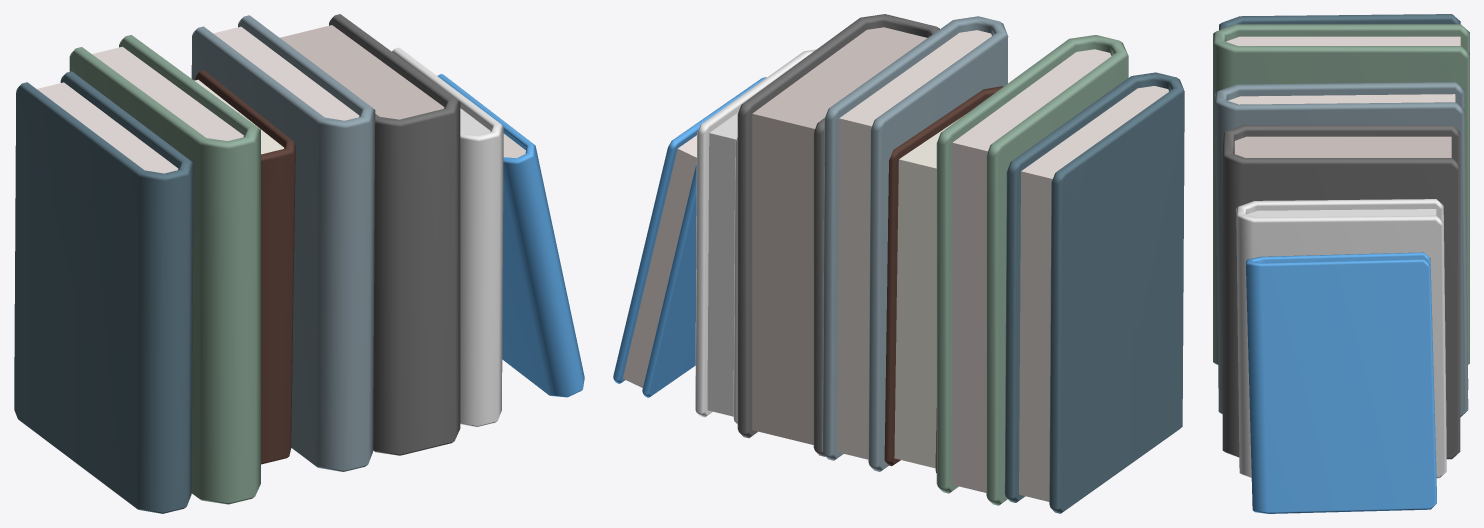
Rendered from prop_042.fbx.
3 renders of one model, left to right at view 1: azimuth 30°, elevation 25°; view 2: azimuth 150°, elevation 25°; view 3: azimuth 270°, elevation 25°, orthographic. The views are drawn at different scales.
Parts seen in each view (by area): view 1: prop_042; view 2: prop_042; view 3: prop_042.
Part boxes in pixels (x1,y1,x2,y2): prop_042: (14,14,584,513); prop_042: (613,14,1184,513); prop_042: (1213,14,1469,513).
Size of the model in its own units: 55.72 by 29.89 by 41.43.
